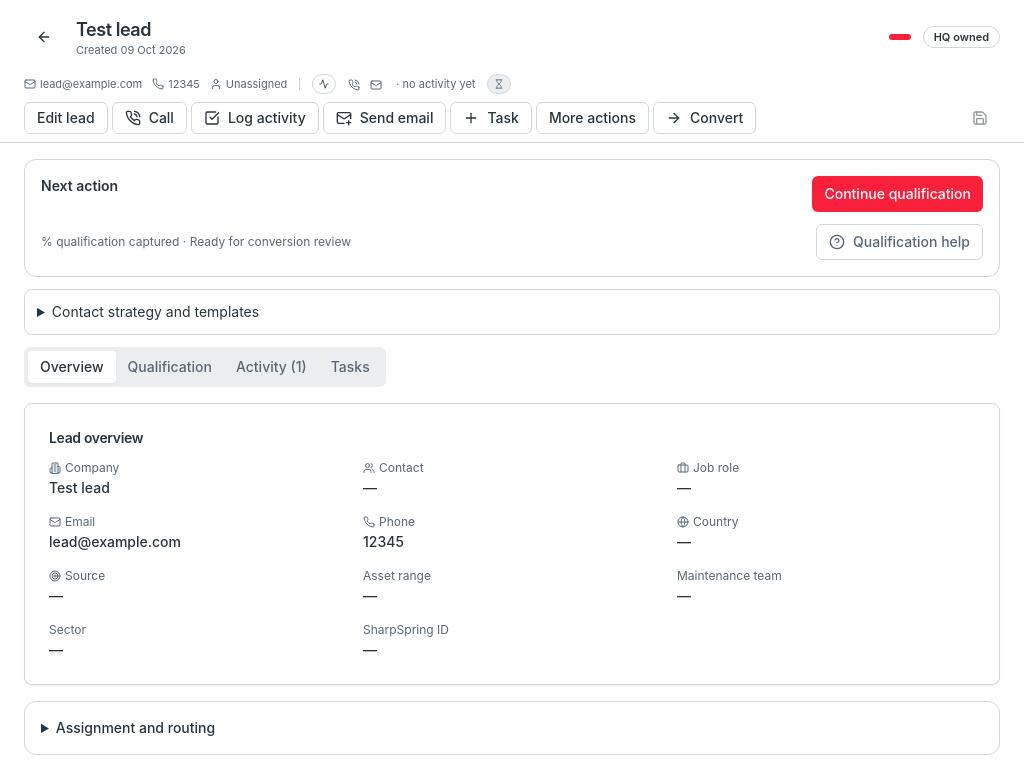
Test case: Incoming lead progressive disclosure › opens qualification help on demand
Click the button "Qualification help" at (900, 242), box [816,224,983,260]
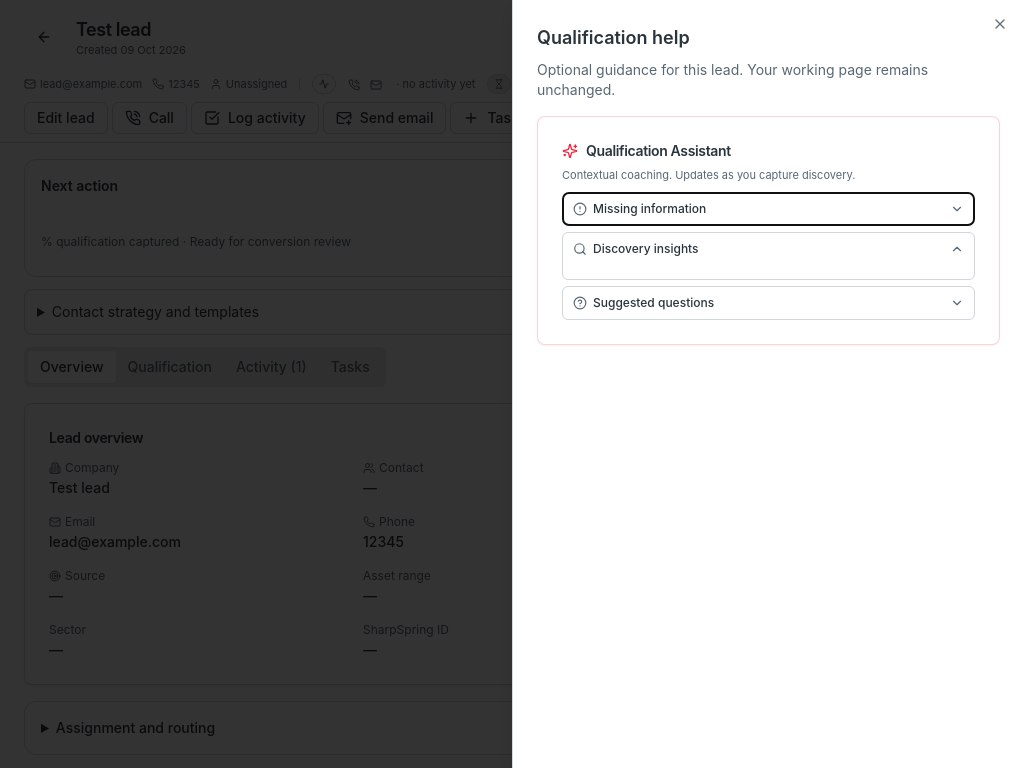
Expected: the dialog shows "Qualification help", [537,27,690,48]
